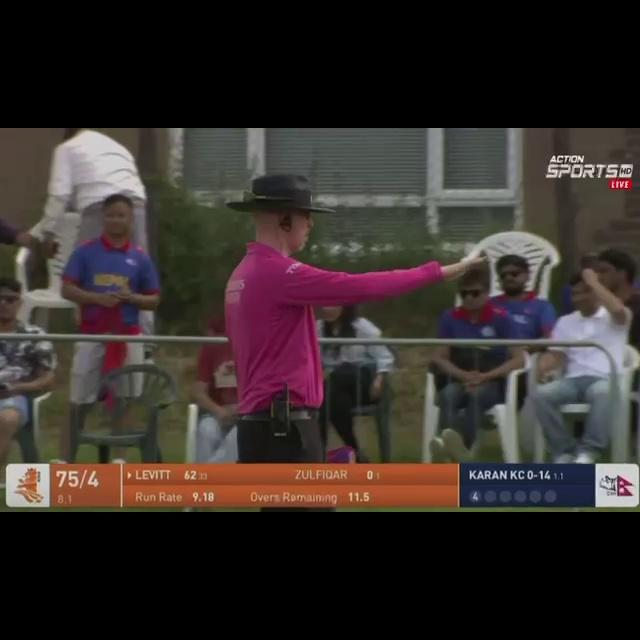umpire: (204, 149, 500, 455)
